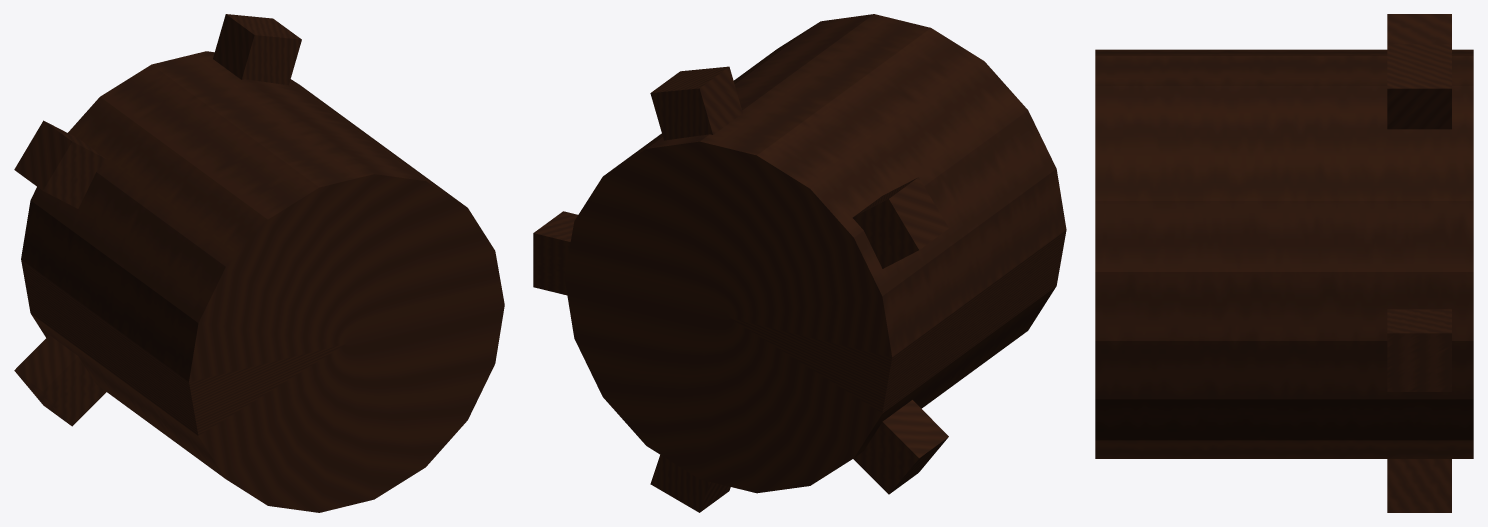
File: pien_r0_01.glb
3 renders of one model, left to right at view 1: azimuth 30°, elevation 25°; view 2: azimuth 150°, elevation 25°; view 3: azimuth 270°, elevation 25°, orthographic. The views are drawn at different scales.
Parts seen in each view (by area): view 1: stump, root_1, root_2, root_3; view 2: stump, root_1, root_2, root_3, root_0, root_4; view 3: stump, root_1, root_0, root_4, root_2.
Part boxes in pixels (<box>): stump: <box>21,51,504,512</box>; root_1: <box>213,14,301,85</box>; root_2: <box>14,120,106,208</box>; root_3: <box>14,335,106,426</box>; stump: <box>564,14,1066,493</box>; root_1: <box>650,66,742,140</box>; root_2: <box>852,177,948,268</box>; root_3: <box>853,400,948,494</box>; root_0: <box>533,211,577,295</box>; root_4: <box>650,455,730,512</box>; stump: <box>1095,49,1473,458</box>; root_1: <box>1387,44,1451,129</box>; root_0: <box>1387,309,1451,391</box>; root_4: <box>1387,459,1451,512</box>; root_2: <box>1387,14,1451,44</box>.
Bounding box in the file's own units: 0.8946 × 0.9406 × 0.7.
1 material, 1 textured.
